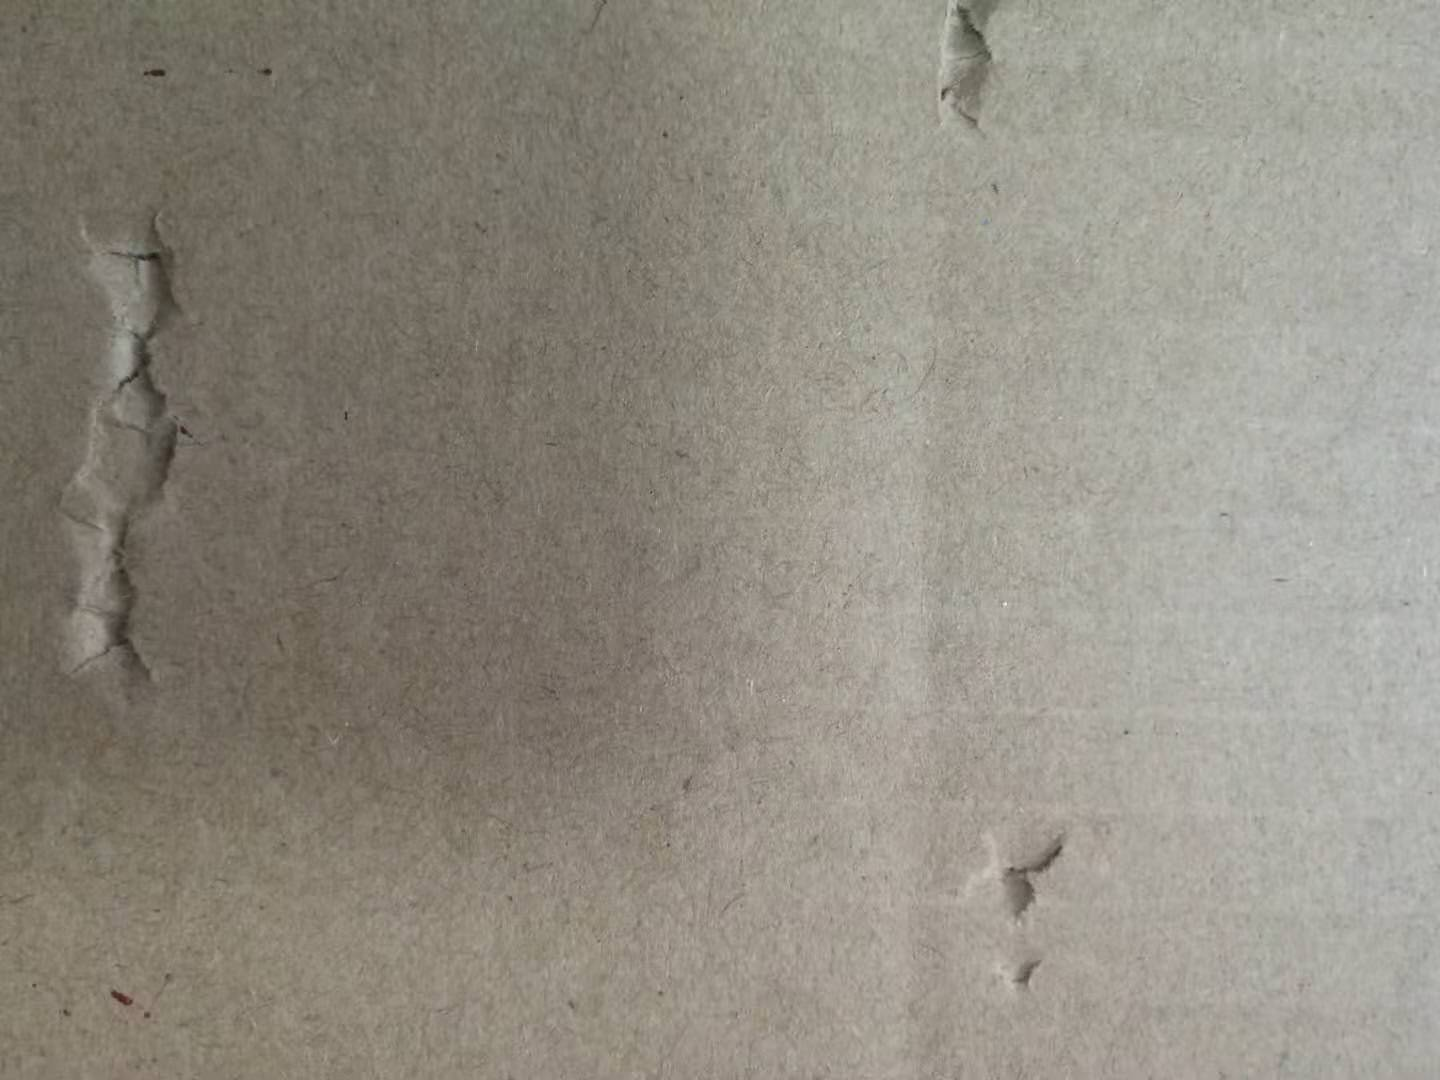defect: (25, 194, 225, 746), (873, 238, 977, 1079), (962, 815, 1102, 1026), (912, 5, 1020, 159)
